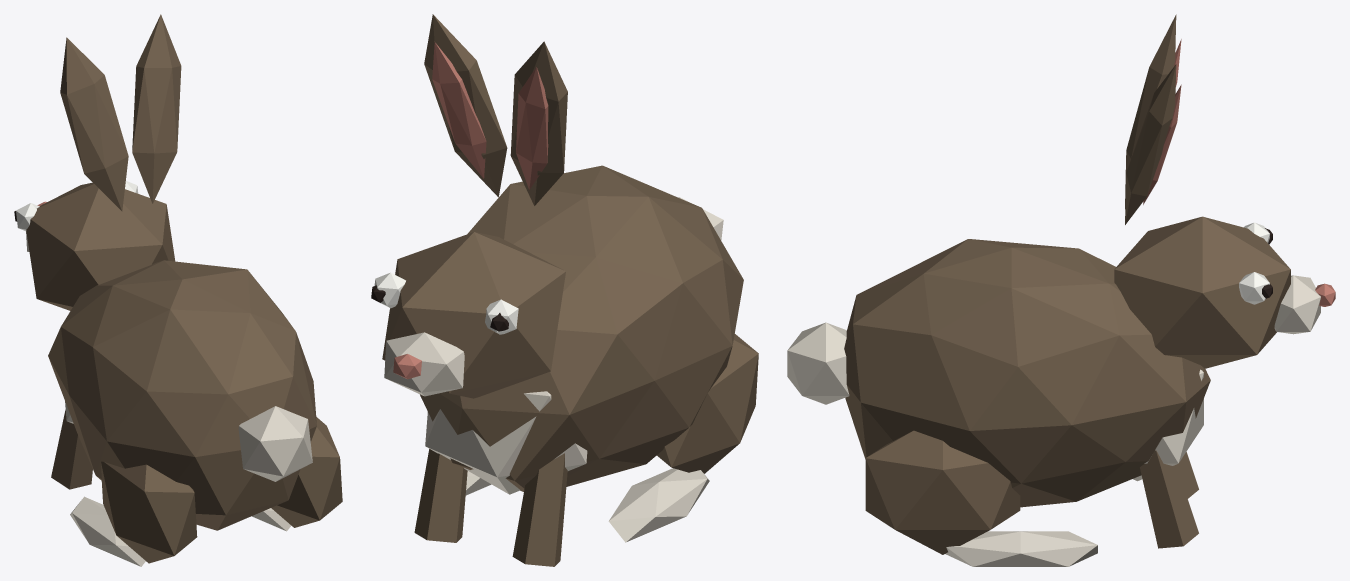
The model's file is sm_env_animal_rabbit.glb.
3 renders of one model, left to right at view 1: azimuth 30°, elevation 25°; view 2: azimuth 150°, elevation 25°; view 3: azimuth 270°, elevation 25°, orthographic. The views are drawn at different scales.
Visible parts, largest first — view 1: Body, Head, BackThigh, Ear, Ear.001, TailMesh, BackThigh.001, BackFoot, FrontLeg, BackFoot.001; view 2: Body, Head, BackThigh, Chest, Ear.001, FrontLeg, BackFoot, Ear, FrontLeg.001, Muzzle, EarInner.001, EarInner (+3 smaller); view 3: Body, Head, BackThigh.001, BackFoot.001, TailMesh, FrontLeg.001, Ear.001, Muzzle, Ear, Chest, Eye.001.
Part boxes in pixels (<box>): Body: <box>48,260,316,530</box>; Head: <box>26,182,175,310</box>; BackThigh: <box>101,461,197,563</box>; Ear: <box>60,37,128,211</box>; Ear.001: <box>132,14,181,203</box>; TailMesh: <box>238,406,312,481</box>; BackThigh.001: <box>271,417,342,527</box>; BackFoot: <box>70,496,145,566</box>; FrontLeg: <box>51,410,92,489</box>; BackFoot.001: <box>252,508,291,531</box>; Body: <box>420,165,743,491</box>; Head: <box>382,232,565,398</box>; BackThigh: <box>657,334,758,473</box>; Chest: <box>425,391,587,494</box>; Ear.001: <box>424,14,507,197</box>; FrontLeg: <box>512,453,567,566</box>; BackFoot: <box>608,468,709,542</box>; Ear: <box>510,41,567,205</box>; FrontLeg.001: <box>414,449,467,542</box>; Muzzle: <box>384,332,464,396</box>; EarInner.001: <box>432,42,486,178</box>; EarInner: <box>516,67,548,189</box>; Body: <box>844,239,1210,507</box>; Head: <box>1114,216,1290,368</box>; BackThigh.001: <box>865,430,1020,554</box>; BackFoot.001: <box>945,531,1097,566</box>; TailMesh: <box>787,322,849,404</box>; FrontLeg.001: <box>1140,450,1198,548</box>; Ear.001: <box>1125,64,1176,224</box>; Muzzle: <box>1274,275,1320,334</box>; Ear: <box>1125,14,1176,208</box>; Chest: <box>1133,369,1203,481</box>; Eye.001: <box>1239,272,1269,304</box>.
Size of the model in its own units: 0.204 by 0.416 by 0.4223.
